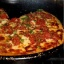pizza: (1, 7, 60, 56)
